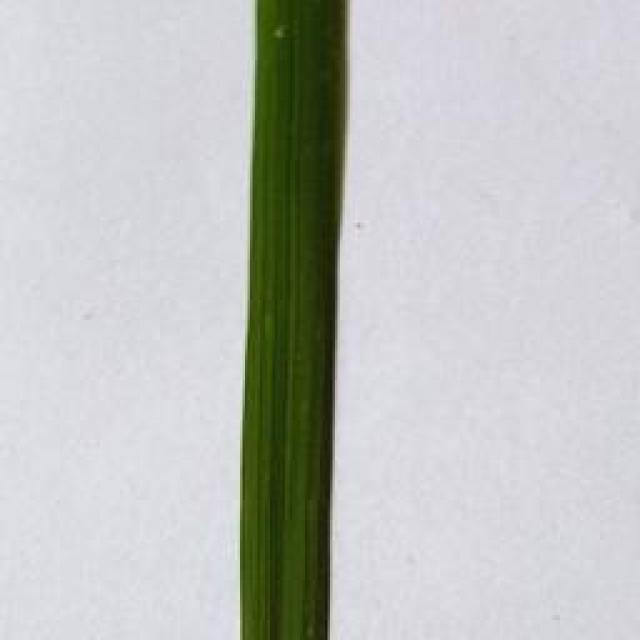Healthy-Plant: (239, 0, 350, 640)
